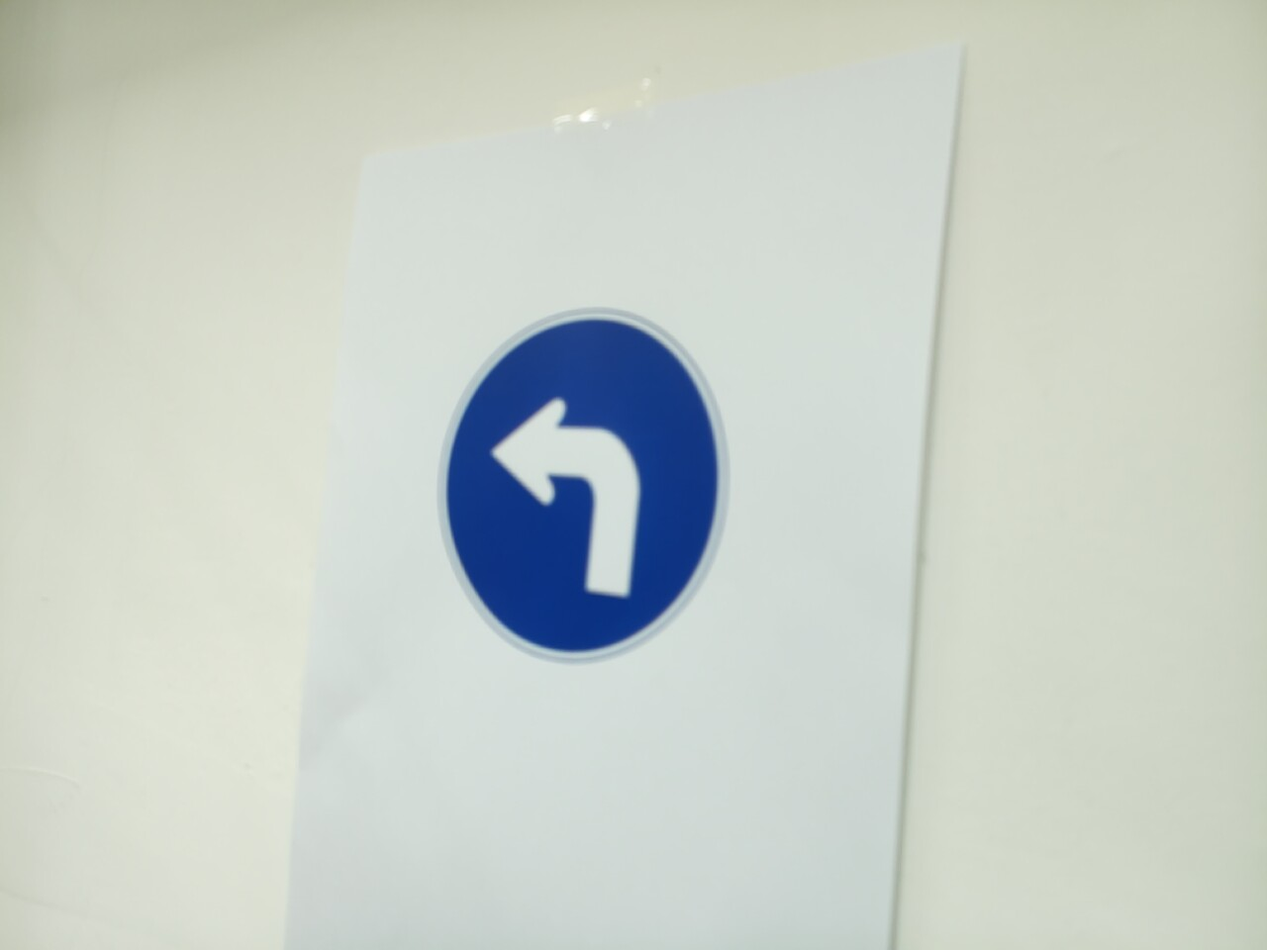left_turn: (438, 310, 727, 662)
